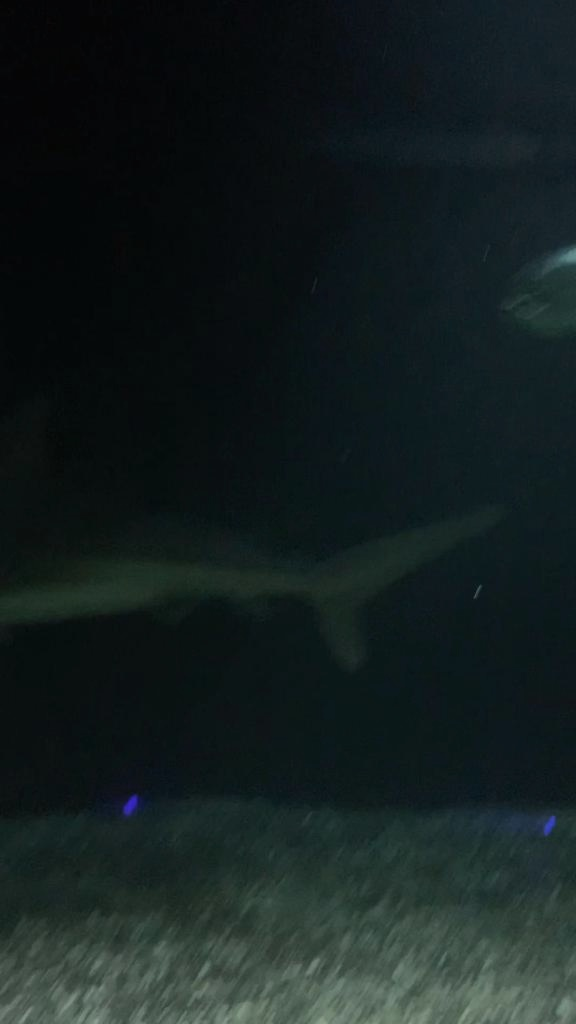fish: (499, 245, 575, 361)
shark: (0, 493, 523, 670)
